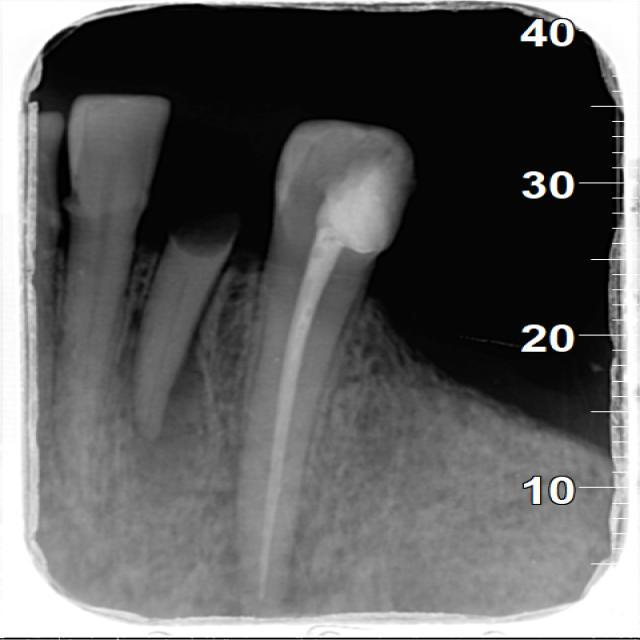individual-tooth-8tto: (236, 126, 408, 587)
